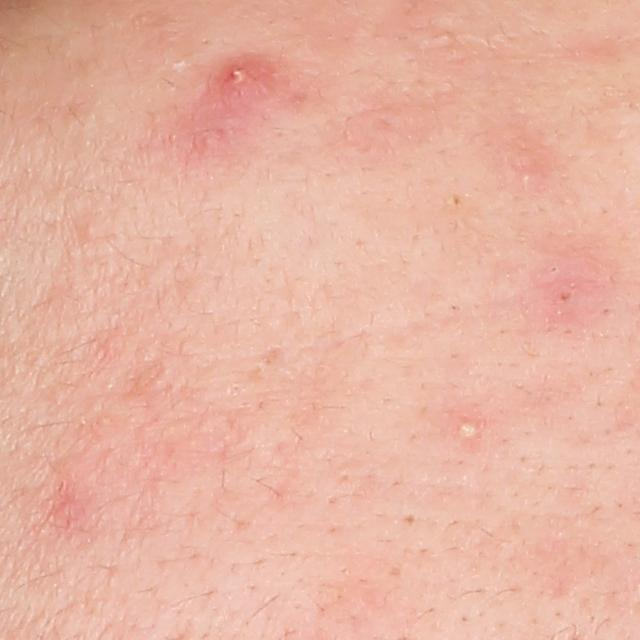comedo: (84, 220, 102, 239), (402, 510, 419, 529), (435, 29, 454, 43)
pustule: (212, 51, 277, 105), (453, 416, 483, 444)
